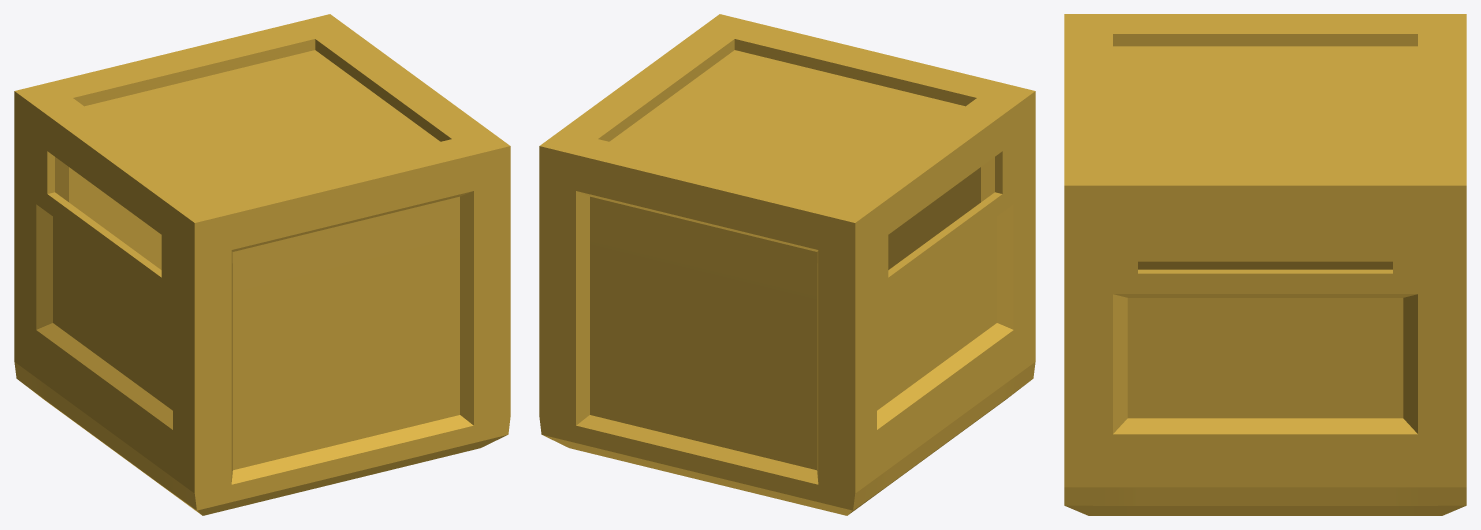
The model's file is Bin.fbx.
3 renders of one model, left to right at view 1: azimuth 30°, elevation 25°; view 2: azimuth 150°, elevation 25°; view 3: azimuth 270°, elevation 25°, orthographic. The views are drawn at different scales.
Visible parts, largest first — view 1: Basurero1; view 2: Basurero1; view 3: Basurero1.
Boxes of the visible parts, x1=… form: Basurero1: x1=14, y1=14, x2=510, y2=515; Basurero1: x1=539, y1=14, x2=1035, y2=515; Basurero1: x1=1064, y1=14, x2=1466, y2=515.
Size of the model in its own units: 1.93 by 1.79 by 1.91.
